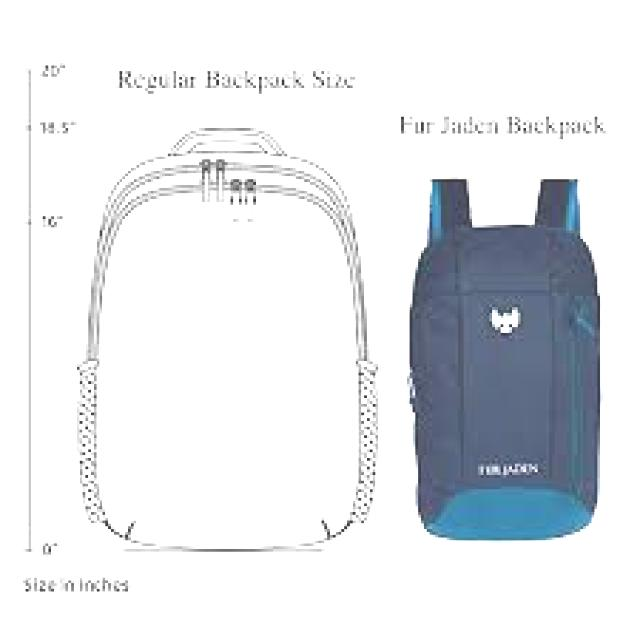backpack: (75, 127, 379, 553), (408, 175, 602, 542)
